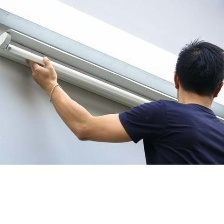light_bulb: (3, 42, 224, 145)
